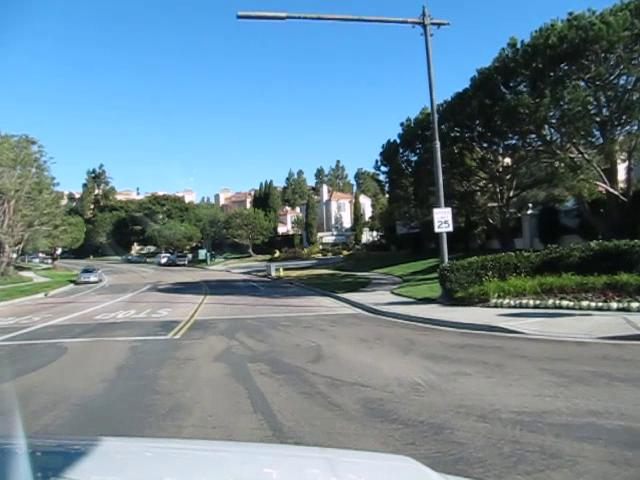speedLimit25: (432, 206, 454, 232)
